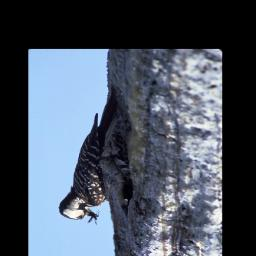Woodpecker: (58, 84, 133, 227)
